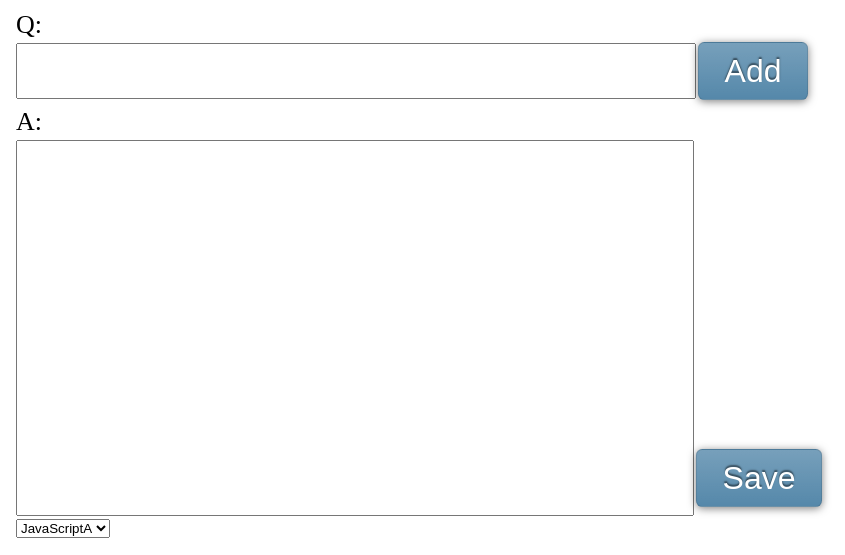
it: basic module › if a <P> is rendered after clicking Add button with question input
The image size is (845, 555).
Type "Test Question" into the field at (356, 71), box [16, 43, 696, 99]
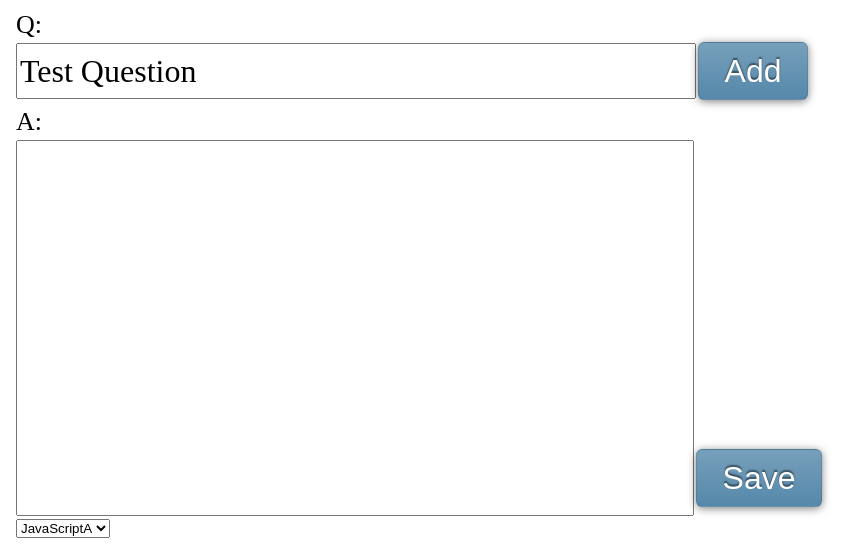
Click the button "Add" at (753, 71), box [698, 42, 808, 100]
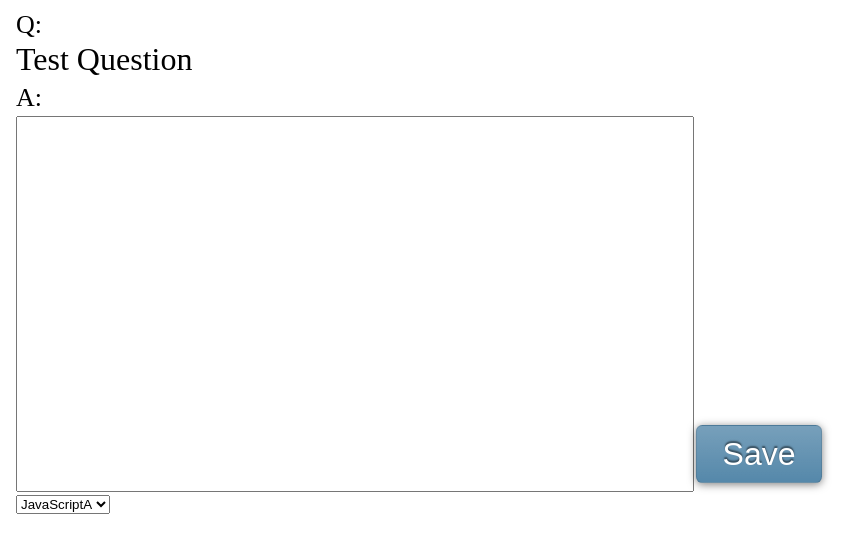
Now the text "Test Question" is shown, box [16, 41, 192, 77]
Now the number of buttons is 1, box [696, 425, 822, 483]
